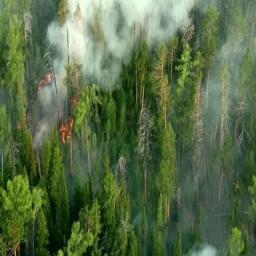Low smoke: (36, 0, 193, 99)
